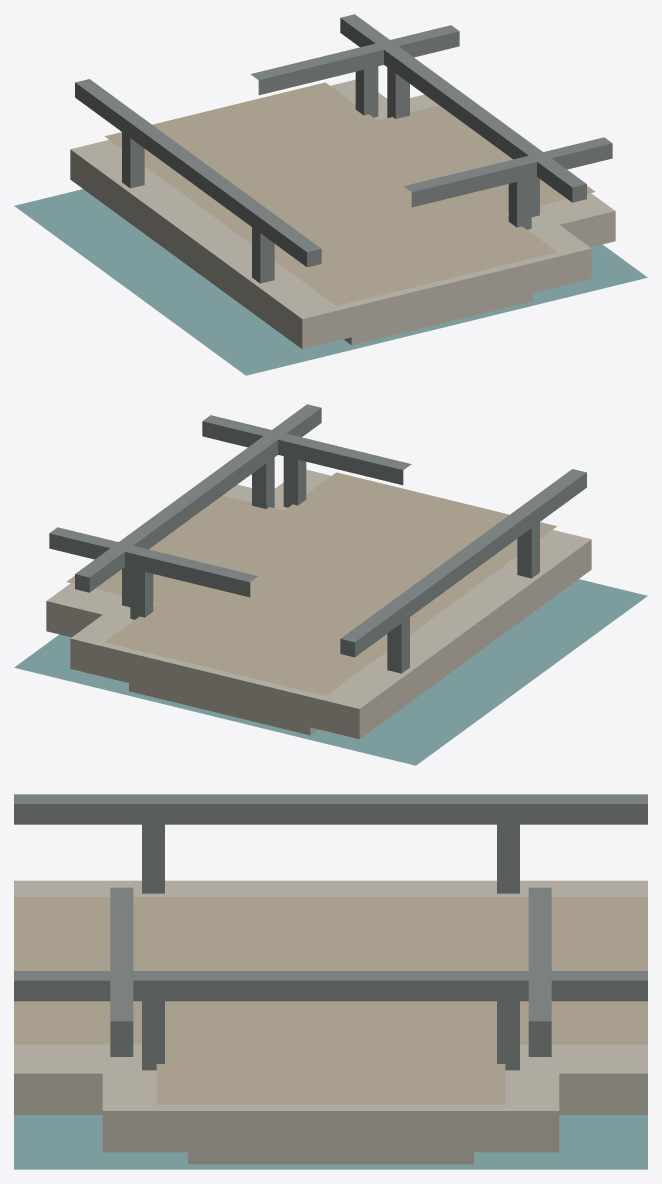
3 views of the same model, one above another, from view 1: azimuth 30°, elevation 25°; view 2: azimuth 150°, elevation 25°; view 3: azimuth 270°, elevation 25° (orthographic). The views are drawn at different scales.
Visible parts, largest first — view 1: Near; view 2: Near; view 3: Near.
Part boxes in pixels (bbox=[...]): Near: bbox=[14, 14, 647, 375]; Near: bbox=[14, 404, 647, 765]; Near: bbox=[14, 794, 647, 1169].
Size of the model in its own units: 1 by 0.258 by 1.
